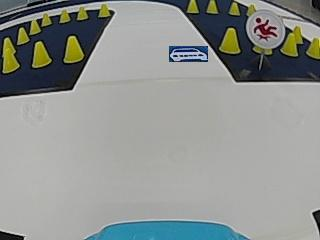cone: (219, 27, 240, 55), (63, 35, 84, 63), (31, 40, 50, 67), (2, 45, 18, 73), (281, 32, 297, 57), (306, 36, 319, 59), (16, 26, 28, 45), (76, 5, 88, 21), (186, 0, 199, 14), (228, 1, 240, 16), (293, 24, 302, 44), (29, 19, 40, 35), (206, 0, 218, 14), (59, 8, 70, 23), (98, 3, 109, 17), (41, 12, 51, 26), (246, 3, 256, 16)
tumble: (253, 16, 281, 45)
